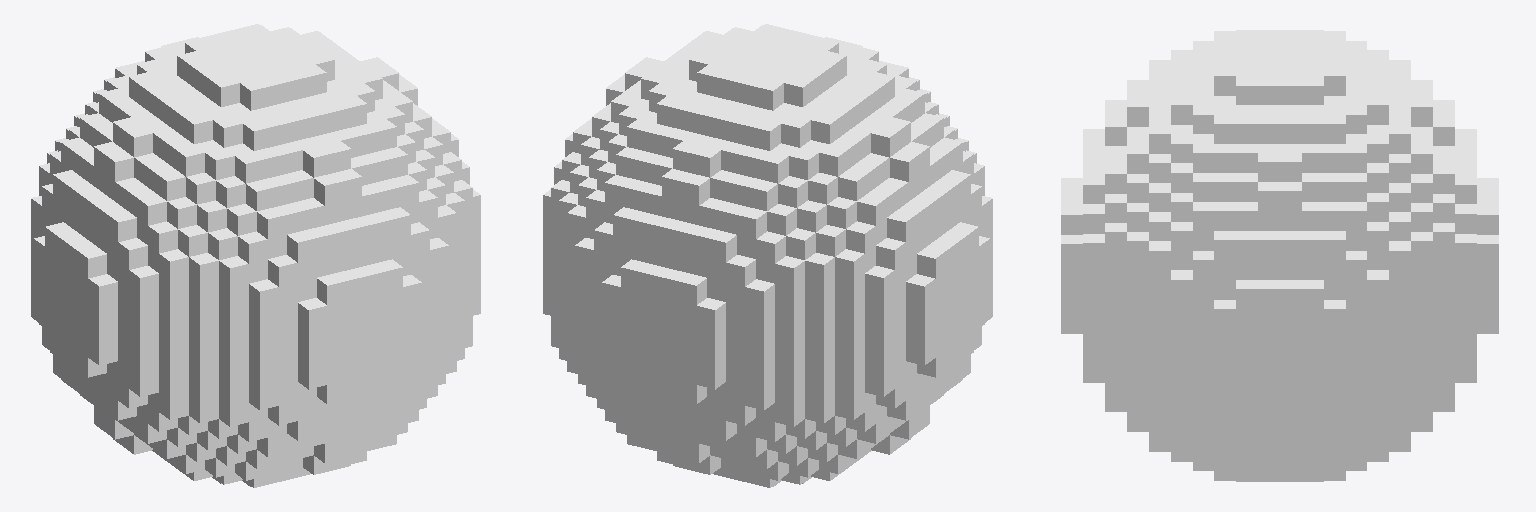
Rendered from beachball.obj.
The picture shows the model from 3 angles: view 1: azimuth 30°, elevation 25°; view 2: azimuth 150°, elevation 25°; view 3: azimuth 270°, elevation 25°; orthographic projection.
Parts seen in each view (by area): view 1: object 1; view 2: object 1; view 3: object 1.
Boxes of the visible parts, <box> form: object 1: <box>31,24,480,487</box>; object 1: <box>543,24,992,487</box>; object 1: <box>1061,30,1498,481</box>.
Bounding box in the file's own units: 2 × 2 × 2.